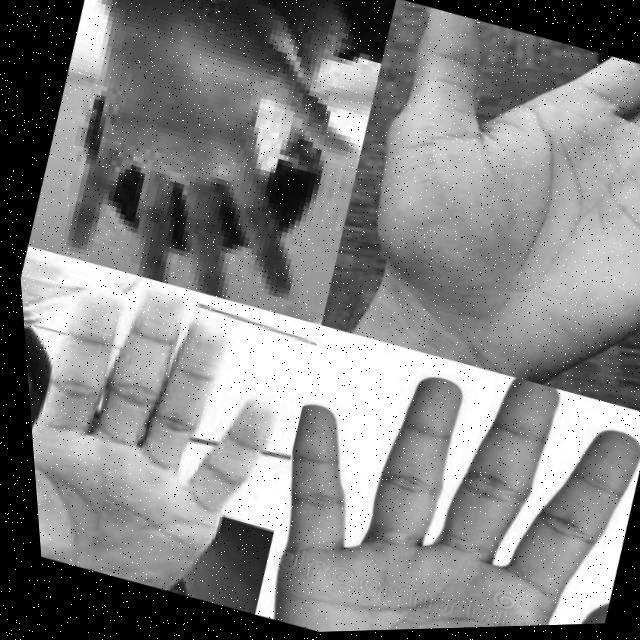no-gloves: (226, 318, 640, 636), (321, 0, 640, 396), (29, 0, 397, 331), (15, 239, 312, 614)
